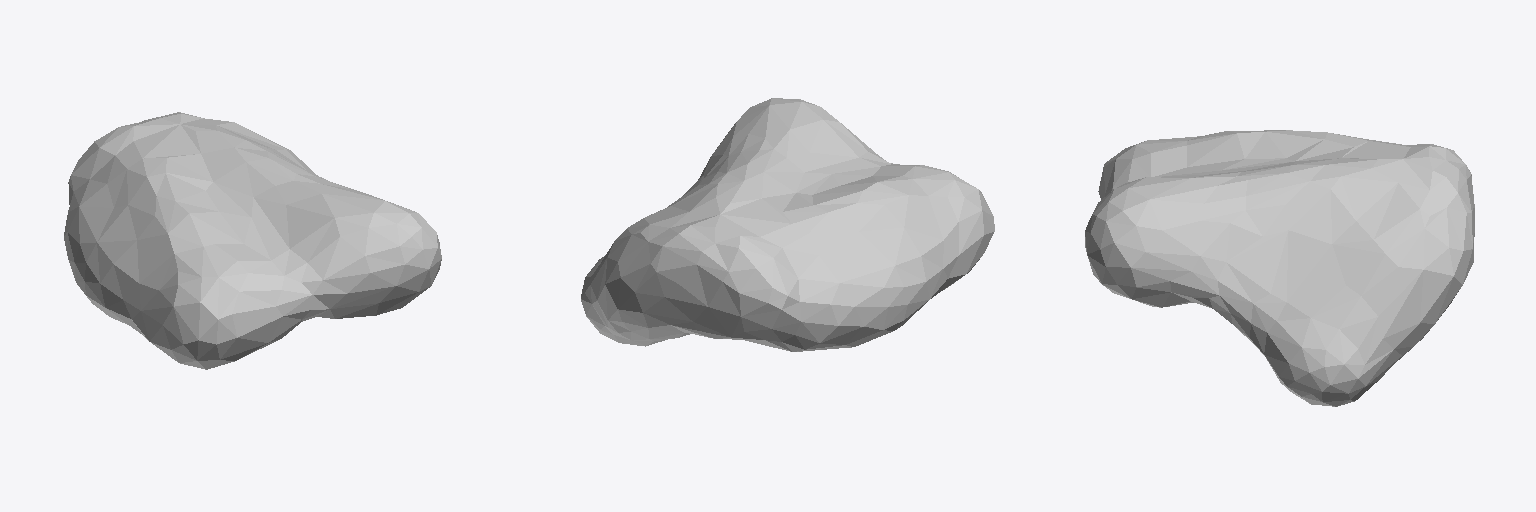
The model's file is HandPalm2FingerRight.obj.
3 renders of one model, left to right at view 1: azimuth 30°, elevation 25°; view 2: azimuth 150°, elevation 25°; view 3: azimuth 270°, elevation 25°, orthographic.
Visible parts, largest first — view 1: Cube.001; view 2: Cube.001; view 3: Cube.001.
Part boxes in pixels (x1,y1,x2,y2): Cube.001: (64,112,441,369); Cube.001: (581,98,994,351); Cube.001: (1085,130,1474,406).
Size of the model in its own units: 2.52 by 1.4 by 2.7.